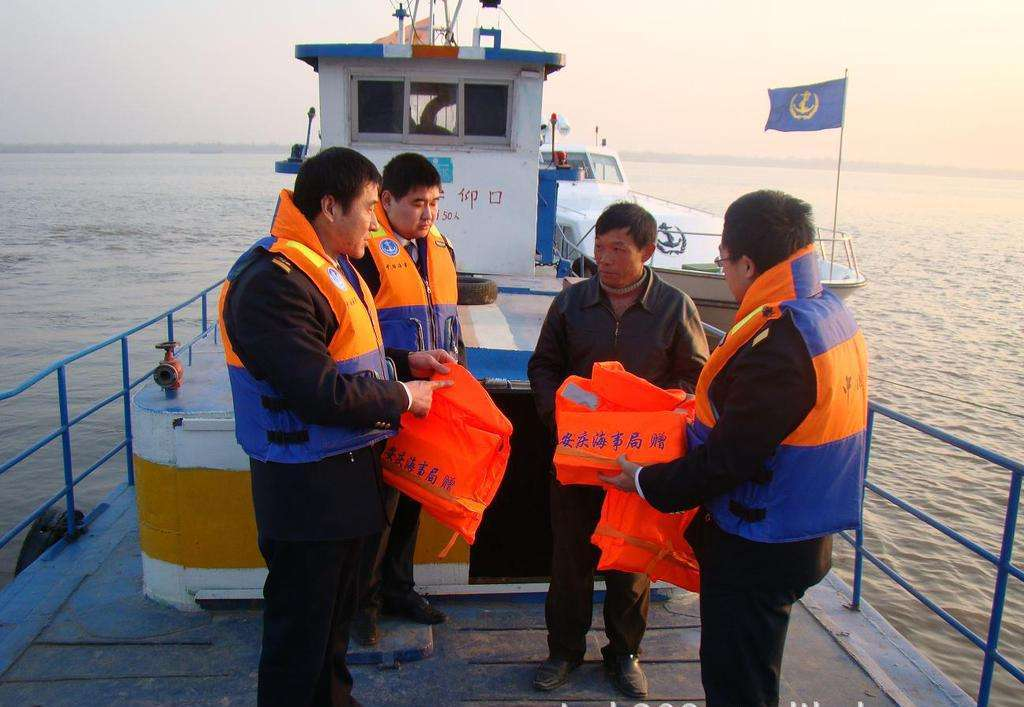other_clothes: (547, 262, 706, 414)
reflective_clothes: (700, 238, 883, 557), (218, 192, 388, 462), (370, 197, 470, 378)
